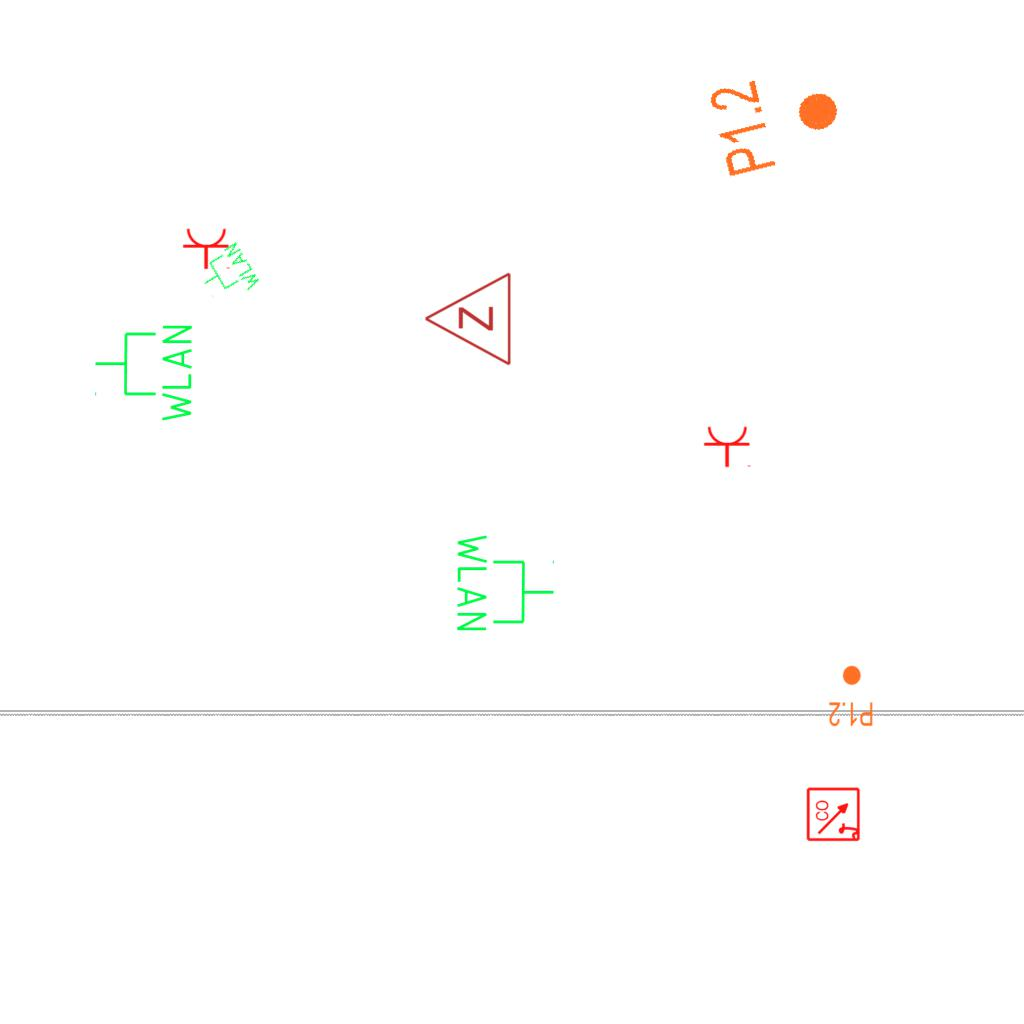Downlight_LED_Einbauleuchten_Flur: (704, 59, 851, 181), (828, 664, 874, 728)
ROA_Rauchmelder_optisch_mit_Signalgeber_(Sockelsirene): (806, 786, 862, 842)
Schukosteckdose_einfach: (182, 227, 232, 270), (703, 425, 753, 468)
WLAN: (92, 321, 196, 426), (453, 530, 557, 635), (192, 239, 264, 311)
Zimmersignalleuchte: (418, 271, 518, 369)
